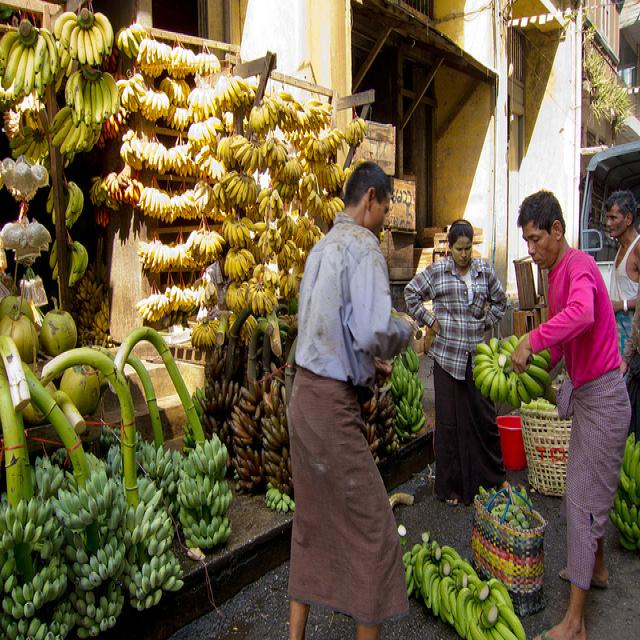Vehicle: (578, 139, 639, 298)
